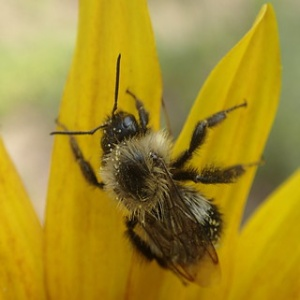bee: (49, 52, 273, 291)
